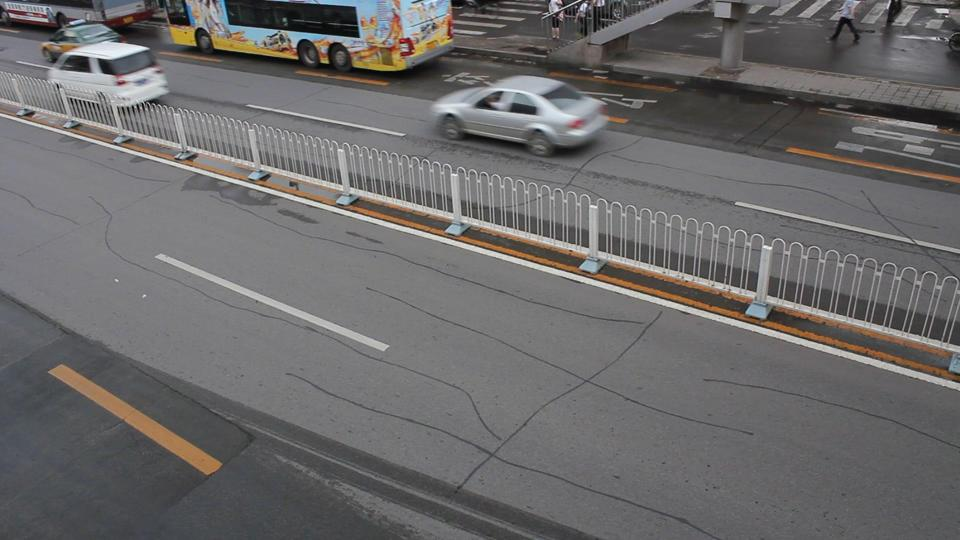bus: (158, 0, 457, 73), (0, 0, 158, 30)
car: (430, 76, 610, 157), (43, 41, 170, 108), (41, 19, 122, 62)
person: (827, 0, 863, 45), (477, 92, 506, 110)
